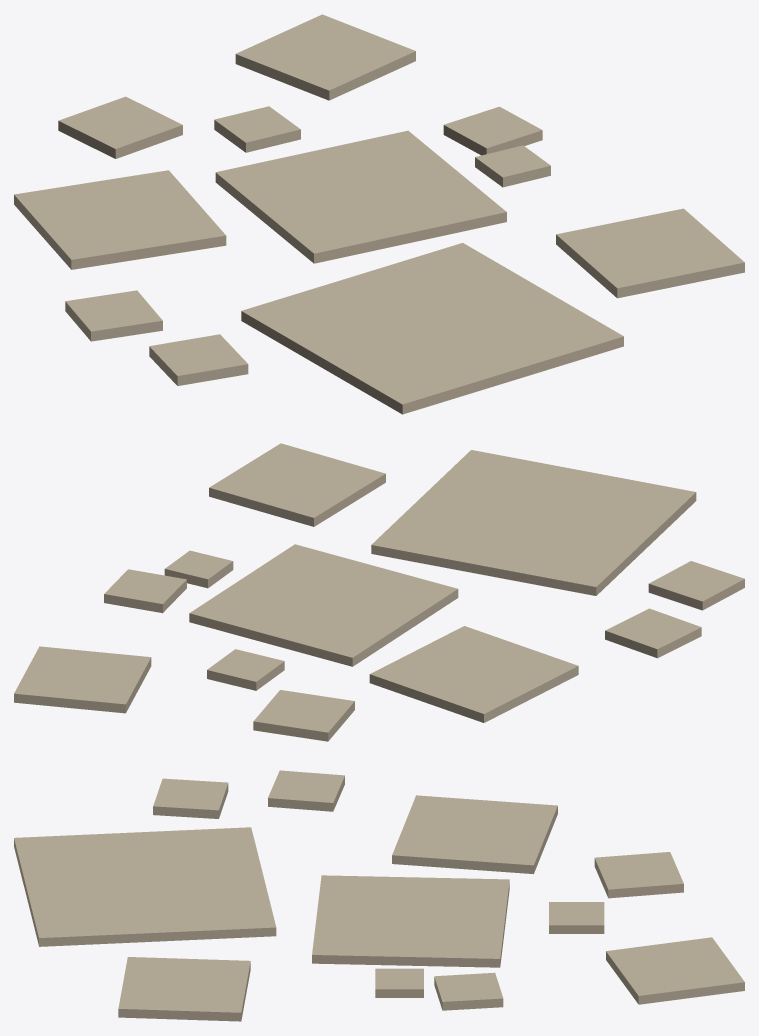
File: Stone_Stepping.fbx
3 renders of one model, top to bottom at view 1: azimuth 30°, elevation 25°; view 2: azimuth 150°, elevation 25°; view 3: azimuth 270°, elevation 25°, orthographic. The views are drawn at different scales.
Visible parts, largest first — view 1: Stone_Stepping; view 2: Stone_Stepping; view 3: Stone_Stepping.
Part boxes in pixels (left/top/right/bottom): Stone_Stepping: left=14, top=14, right=744, bottom=414; Stone_Stepping: left=14, top=443, right=744, bottom=741; Stone_Stepping: left=14, top=770, right=744, bottom=1021.
Bounding box in the file's own units: 357 × 6 × 455.
